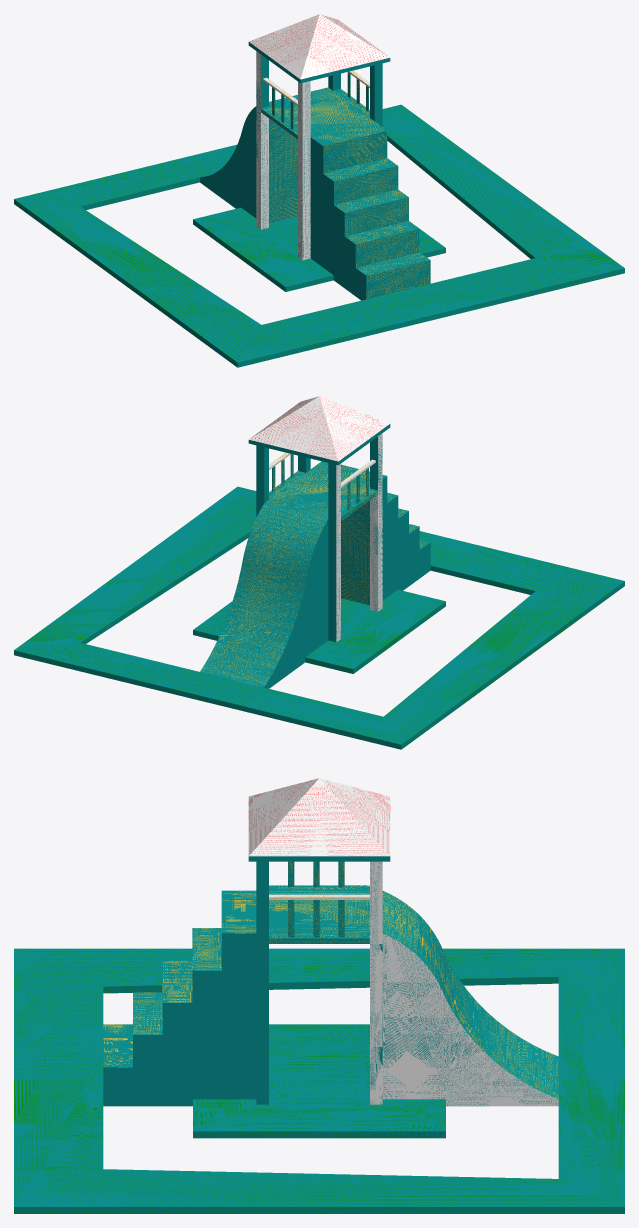
Rendered from slide.obj.
3 renders of one model, top to bottom at view 1: azimuth 30°, elevation 25°; view 2: azimuth 150°, elevation 25°; view 3: azimuth 270°, elevation 25°, orthographic. The views are drawn at different scales.
Visible parts, largest first — view 1: Mesh1 Model; view 2: Mesh1 Model; view 3: Mesh1 Model.
Part boxes in pixels (bbox=[...]): Mesh1 Model: bbox=[14, 14, 624, 367]; Mesh1 Model: bbox=[14, 396, 624, 749]; Mesh1 Model: bbox=[14, 778, 624, 1213].
Size of the model in its own units: 24.14 by 13.37 by 24.14.
